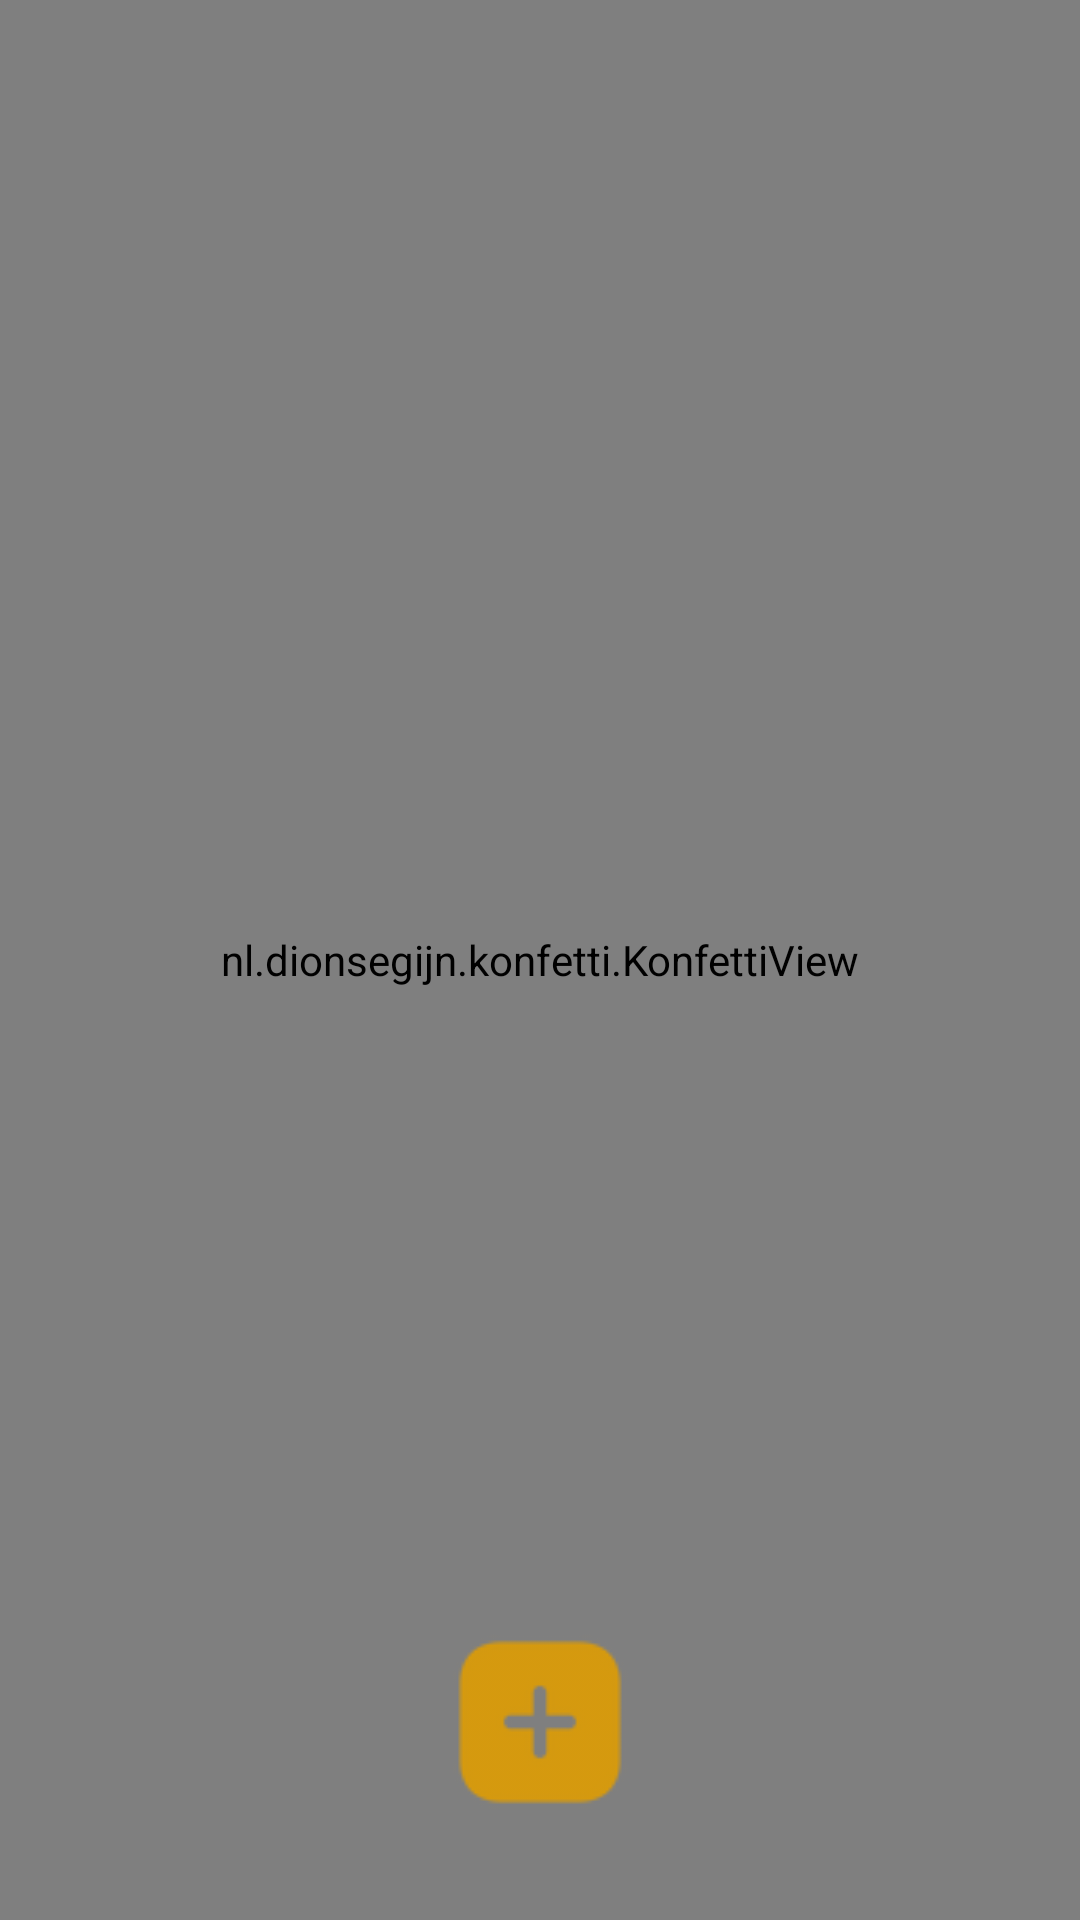

Locate icon controls on the screen. Image size 1080px x 1920px, boxes as (x1, y1, x2, y2).
add todo: (458, 1640, 622, 1803)
